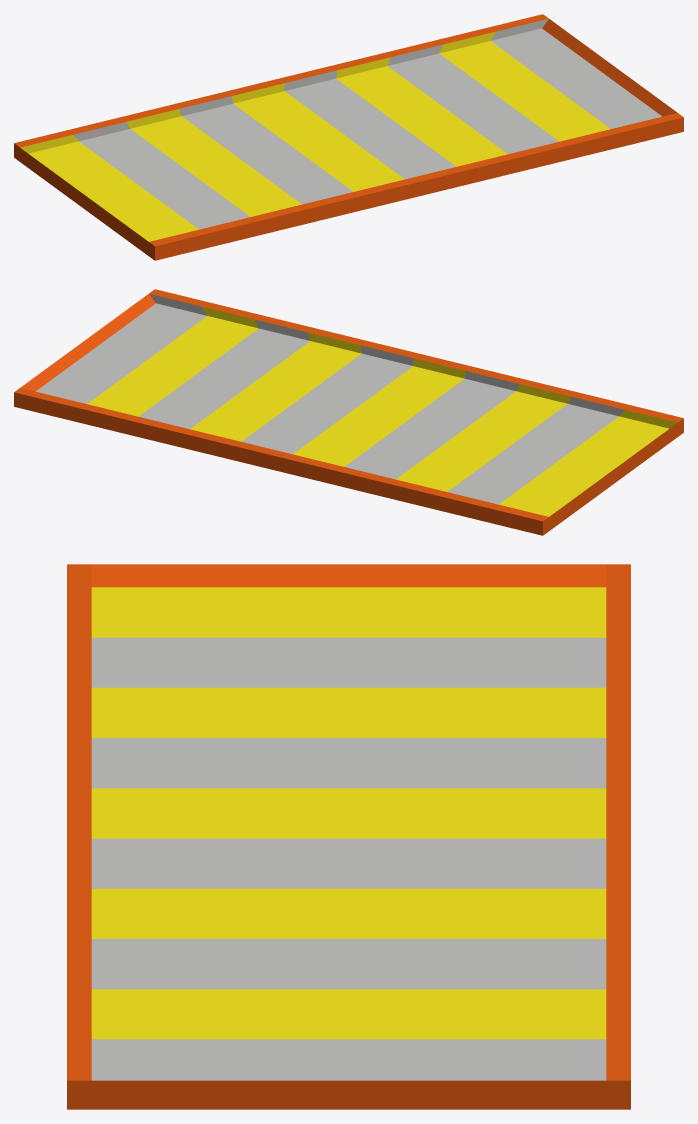
Rendered from parkur_renkli_krk.fbx.
The picture shows the model from 3 angles, top to bottom: view 1: azimuth 30°, elevation 25°; view 2: azimuth 150°, elevation 25°; view 3: azimuth 270°, elevation 25°; orthographic projection. The views are drawn at different scales.
Visible parts, largest first — view 1: Cube.002; view 2: Cube.002; view 3: Cube.002.
Boxes of the visible parts, bbox=[...] form: Cube.002: bbox=[14, 14, 683, 260]; Cube.002: bbox=[14, 289, 683, 535]; Cube.002: bbox=[67, 564, 630, 1109].
Size of the model in its own units: 790 by 20.57 by 365.
Materials: 1 (1 with a texture image).
